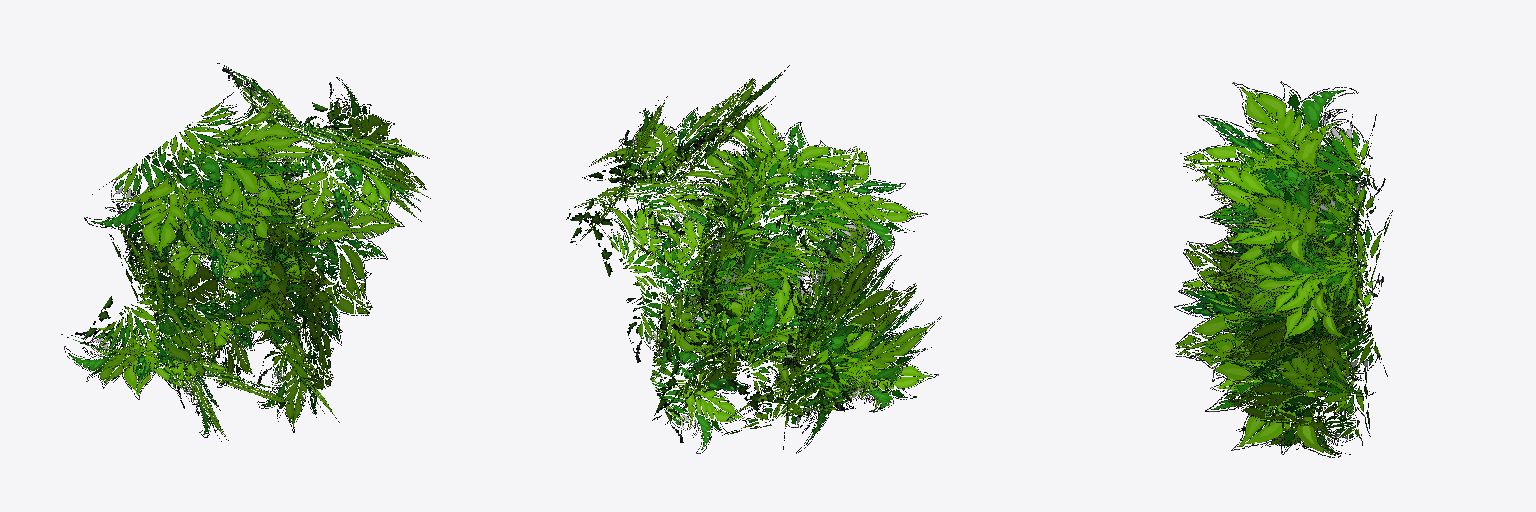
3 renders of one model, left to right at view 1: azimuth 30°, elevation 25°; view 2: azimuth 150°, elevation 25°; view 3: azimuth 270°, elevation 25°, orthographic.
Visible parts, largest first — view 1: Material_Material_Mat_0; view 2: Material_Material_Mat_0; view 3: Material_Material_Mat_0.
Part boxes in pixels (left/top/right/bottom): Material_Material_Mat_0: left=61, top=63, right=430, bottom=441; Material_Material_Mat_0: left=566, top=65, right=941, bottom=453; Material_Material_Mat_0: left=1174, top=81, right=1392, bottom=457.
Bounding box in the file's own units: 2.51 × 2.55 × 1.44.
Materials: 1 (1 with a texture image).